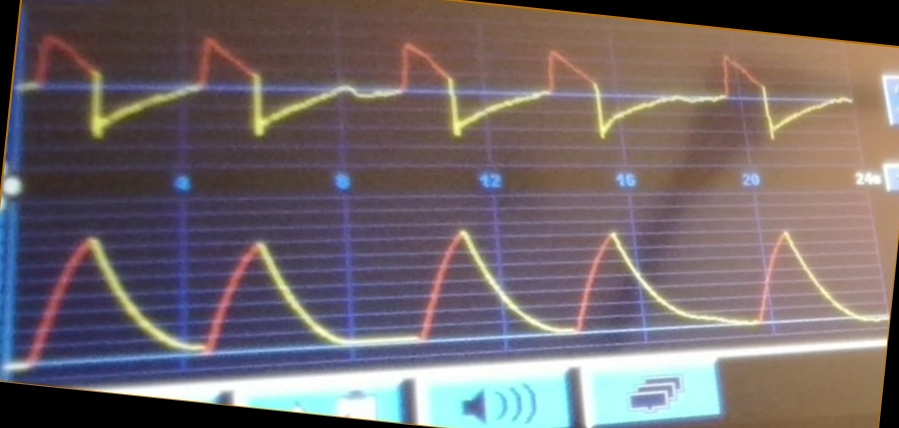Ineffective_effort Flow: (28, 28, 820, 148)
Ineffective_effort Volume: (15, 219, 887, 360)
